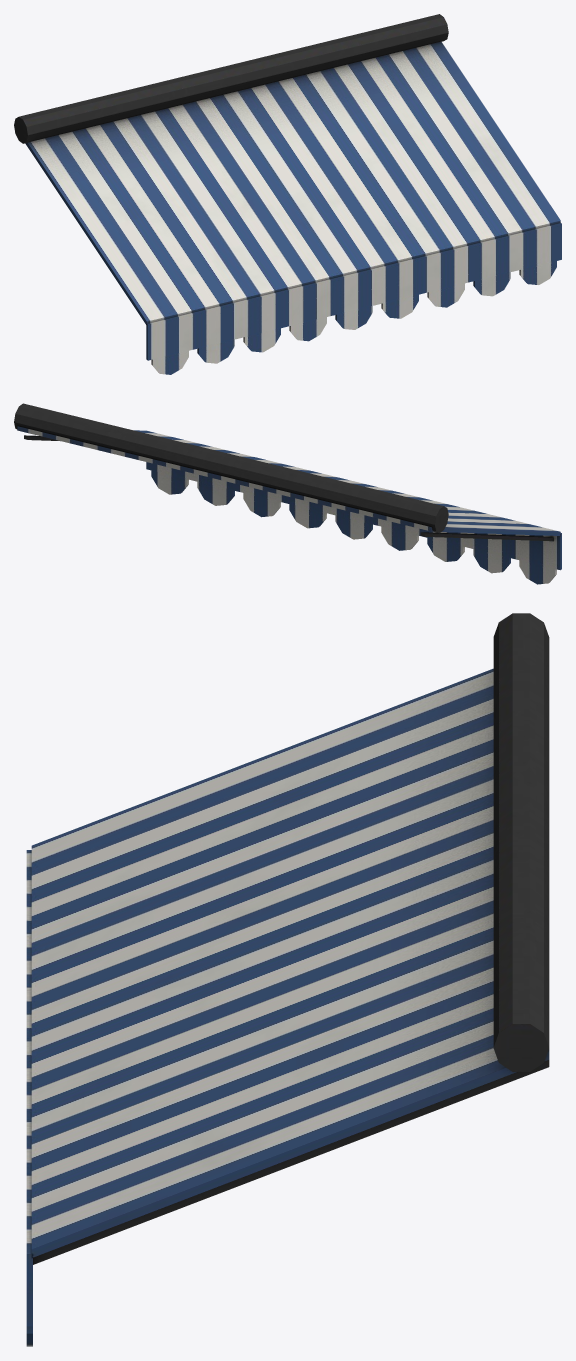
The model's file is awning_24_blue.glb.
3 renders of one model, top to bottom at view 1: azimuth 30°, elevation 25°; view 2: azimuth 150°, elevation 25°; view 3: azimuth 270°, elevation 25°, orthographic. The views are drawn at different scales.
Parts seen in each view (by area): view 1: awning_24_blue; view 2: awning_24_blue; view 3: awning_24_blue.
Boxes of the visible parts, left/top/right/bottom form: awning_24_blue: left=14, top=14, right=561, bottom=374; awning_24_blue: left=14, top=403, right=561, bottom=584; awning_24_blue: left=26, top=613, right=549, bottom=1346.
Bounding box in the file's own units: 2.44 × 0.9566 × 1.31.
1 material, 1 textured.
